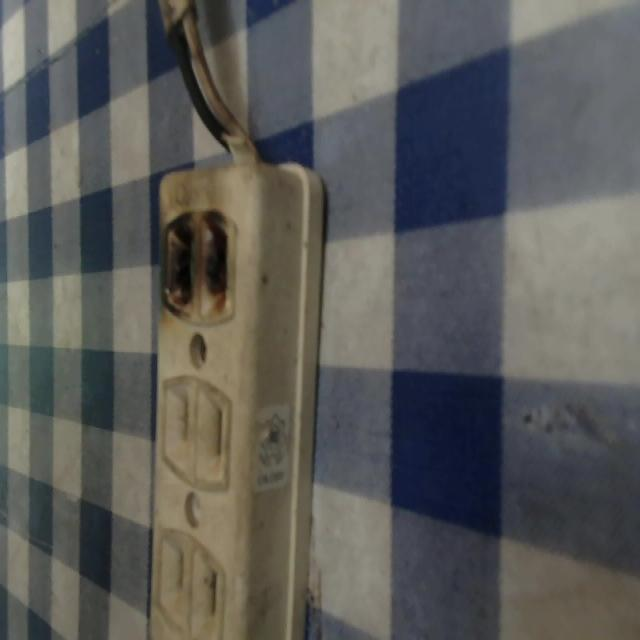-: (159, 202, 239, 326)
